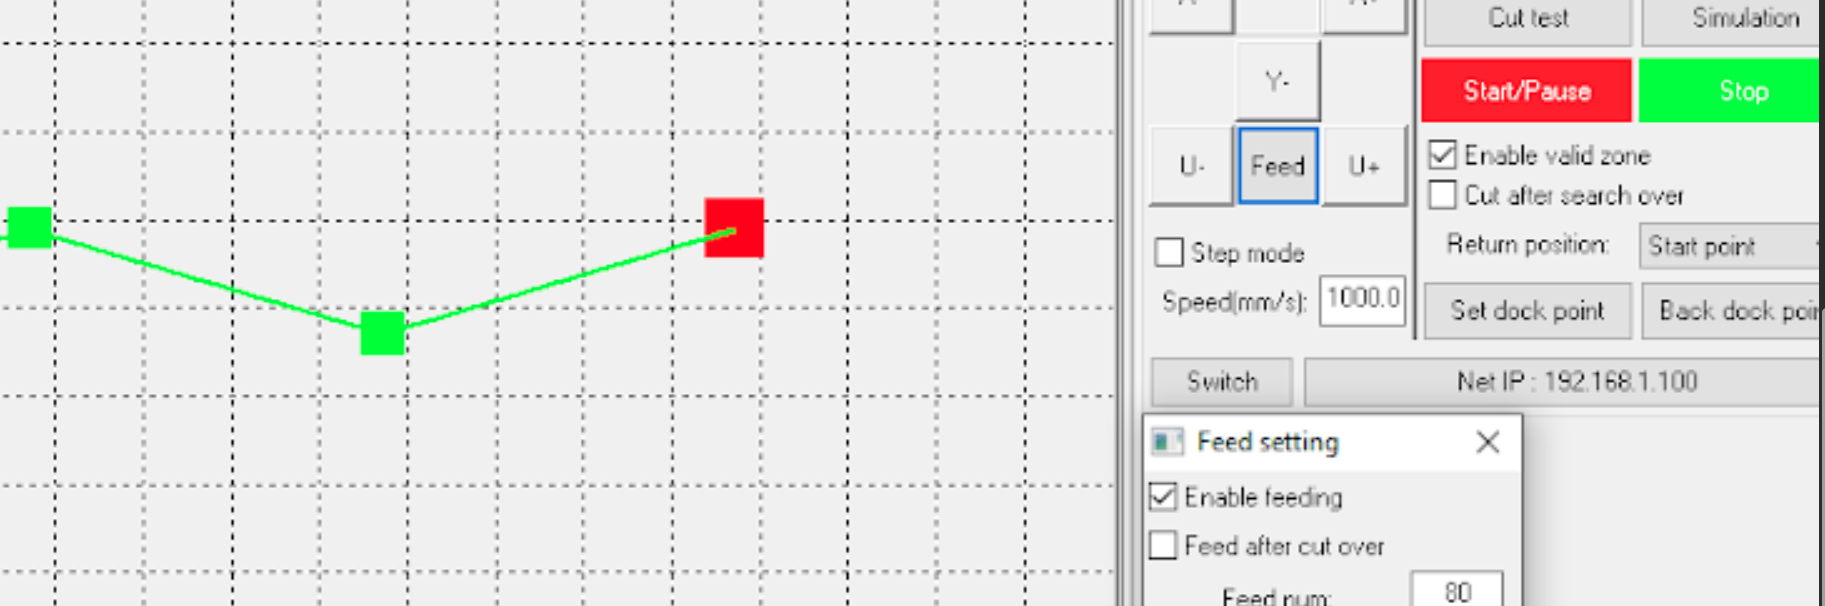start: (1415, 57, 1640, 119)
